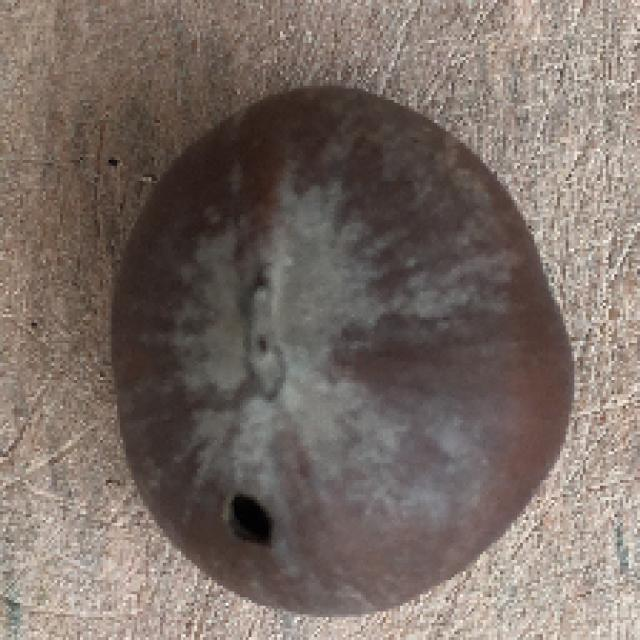DamagedHazelnut: (106, 87, 578, 617)
